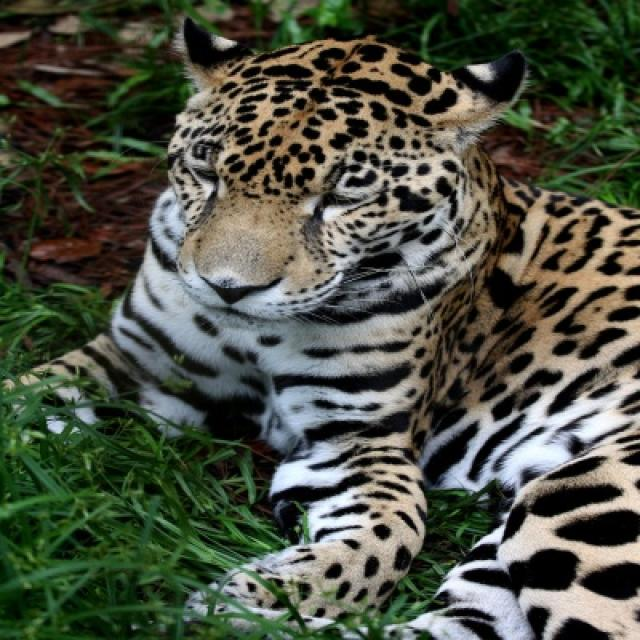Jaguar: (0, 18, 638, 638)
